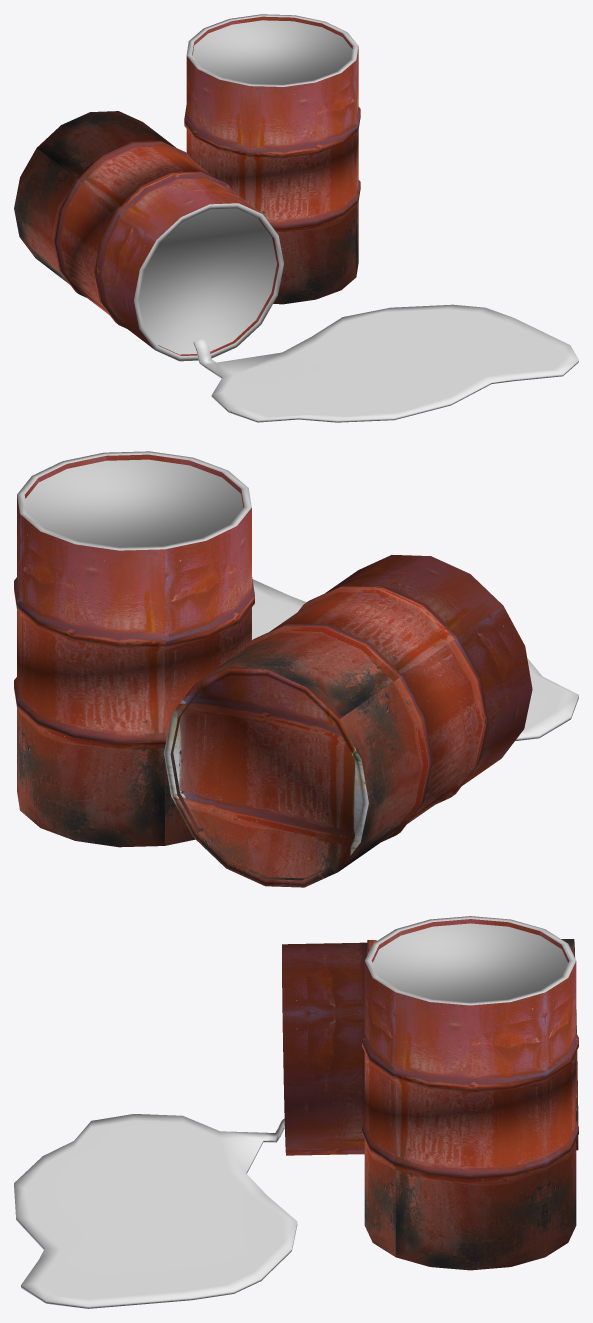
The model's file is barrel.fbx.
The picture shows the model from 3 angles, top to bottom: view 1: azimuth 30°, elevation 25°; view 2: azimuth 150°, elevation 25°; view 3: azimuth 270°, elevation 25°; orthographic projection. The views are drawn at different scales.
Parts seen in each view (by area): view 1: Cylinder; view 2: Cylinder; view 3: Cylinder.
Part boxes in pixels (<box>): Cylinder: <box>14,14,578,422</box>; Cylinder: <box>14,451,578,887</box>; Cylinder: <box>14,916,578,1308</box>.
Bounding box in the file's own units: 477 × 281 × 534.
